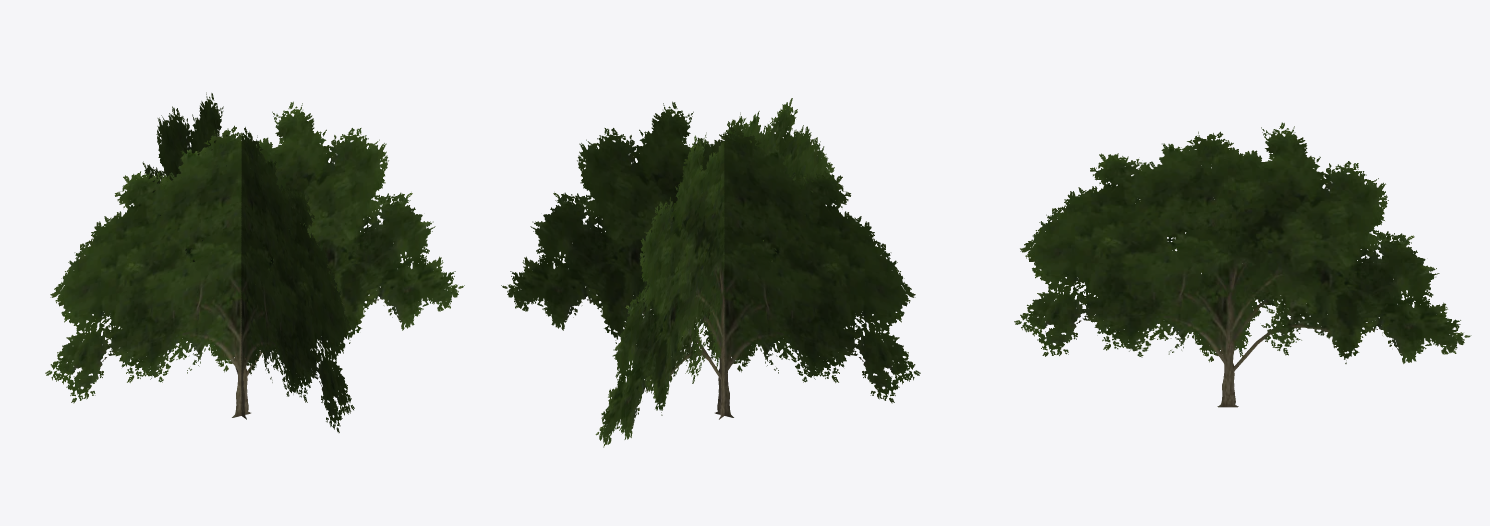
File: baum_buche_1_lod2.glb
The picture shows the model from 3 angles, left to right: view 1: azimuth 30°, elevation 25°; view 2: azimuth 150°, elevation 25°; view 3: azimuth 270°, elevation 25°; orthographic projection. The views are drawn at different scales.
Visible parts, largest first — view 1: Billboard; view 2: Billboard; view 3: Billboard.
Part boxes in pixels (bbox=[...]): Billboard: bbox=[45, 92, 464, 432]; Billboard: bbox=[501, 98, 920, 447]; Billboard: bbox=[1014, 122, 1471, 407].
Bounding box in the file's own units: 21.77 × 14 × 21.77.
1 material, 1 textured.
